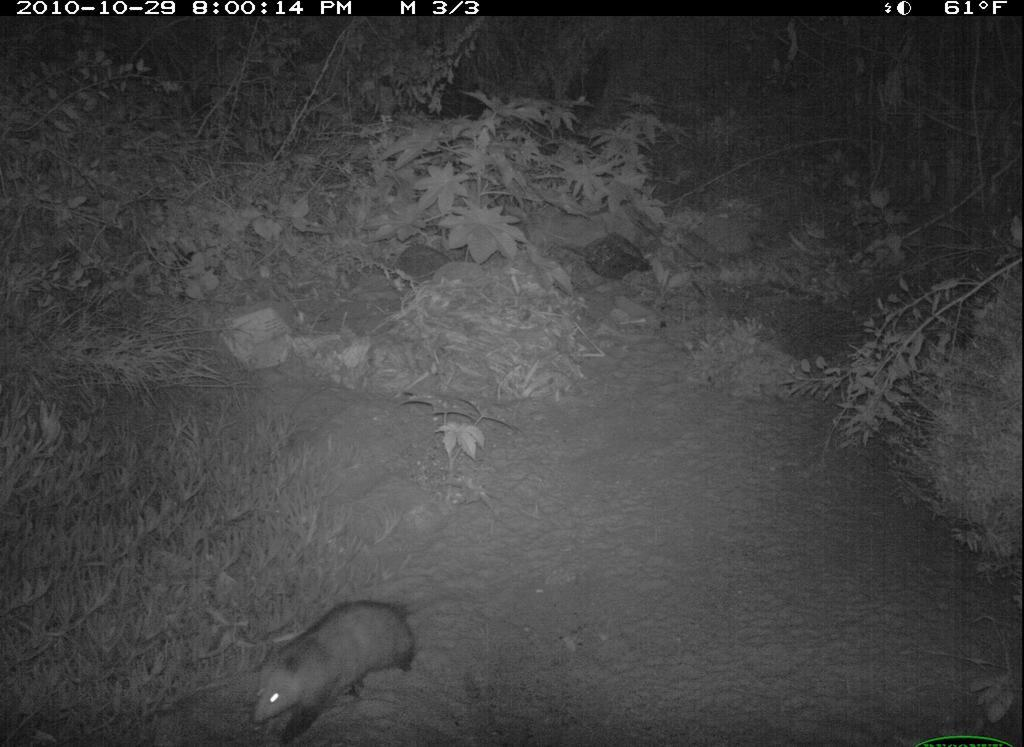opossum: (242, 589, 449, 745)
